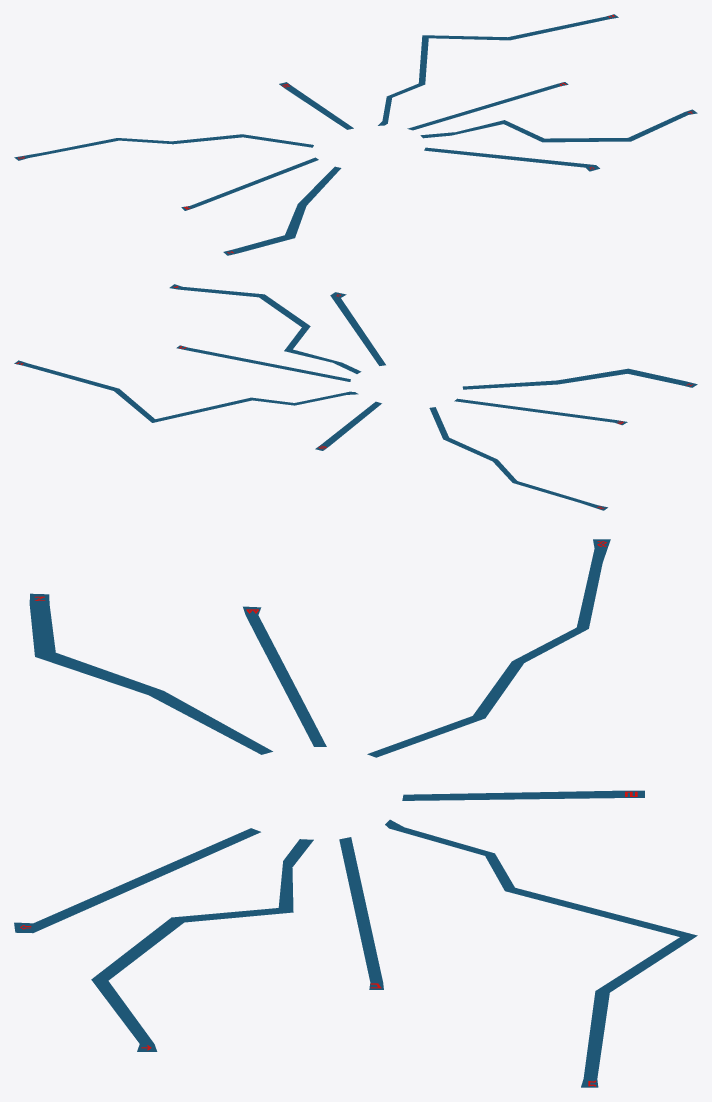
Rendered from RoadToPipes.fbx.
3 renders of one model, top to bottom at view 1: azimuth 30°, elevation 25°; view 2: azimuth 150°, elevation 25°; view 3: azimuth 270°, elevation 25°, orthographic. The views are drawn at different scales.
Parts seen in each view (by area): view 1: RoadToPipe5, RoadToPipe3, RoadToPipe2, RoadToPipe4, RoadToPipe1, RoadToPipe6, RoadToPipe7, RoadToPipe8; view 2: RoadToPipe5, RoadToPipe3, RoadToPipe2, RoadToPipe4, RoadToPipe1, RoadToPipe6, RoadToPipe7, RoadToPipe8; view 3: RoadToPipe5, RoadToPipe3, RoadToPipe2, RoadToPipe4, RoadToPipe1, RoadToPipe6, RoadToPipe7, RoadToPipe8.
Part boxes in pixels (x1,y1,x2,y2): RoadToPipe5: [378, 14, 618, 125]; RoadToPipe3: [420, 109, 697, 142]; RoadToPipe2: [223, 166, 341, 255]; RoadToPipe4: [14, 134, 313, 160]; RoadToPipe1: [424, 147, 599, 171]; RoadToPipe6: [407, 82, 568, 130]; RoadToPipe7: [181, 157, 318, 210]; RoadToPipe8: [279, 82, 353, 129]; RoadToPipe5: [14, 360, 358, 422]; RoadToPipe3: [169, 284, 361, 373]; RoadToPipe2: [462, 368, 697, 389]; RoadToPipe4: [429, 407, 607, 510]; RoadToPipe1: [330, 292, 385, 365]; RoadToPipe6: [176, 345, 350, 381]; RoadToPipe7: [454, 398, 627, 425]; RoadToPipe8: [315, 401, 381, 450]; RoadToPipe5: [385, 819, 697, 1087]; RoadToPipe3: [91, 839, 313, 1051]; RoadToPipe2: [29, 593, 272, 754]; RoadToPipe4: [367, 539, 610, 757]; RoadToPipe1: [14, 828, 260, 933]; RoadToPipe6: [339, 837, 383, 989]; RoadToPipe7: [243, 606, 326, 746]; RoadToPipe8: [402, 790, 644, 800].
Bounding box in the file's own units: 9660 × 0.0902 × 5090.
